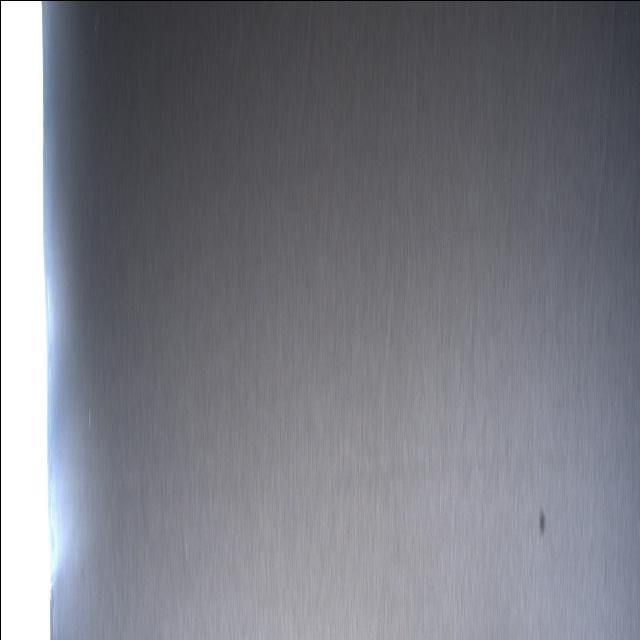crease: (587, 1, 620, 312), (373, 267, 395, 548), (293, 5, 313, 169)
